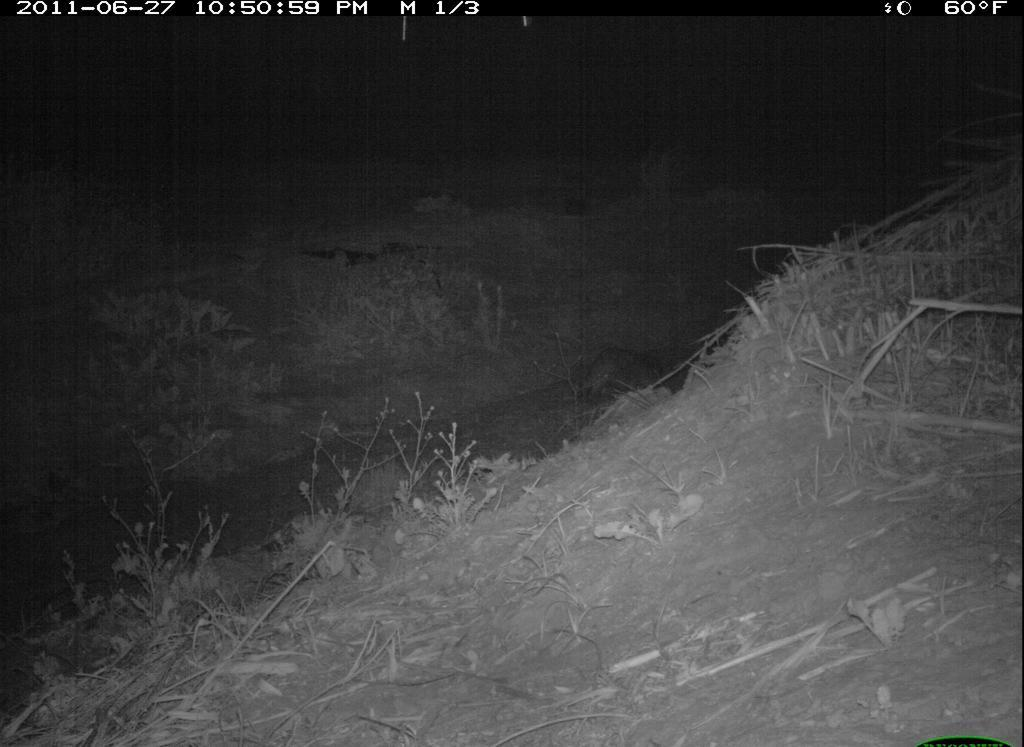raccoon: (574, 342, 664, 405)
